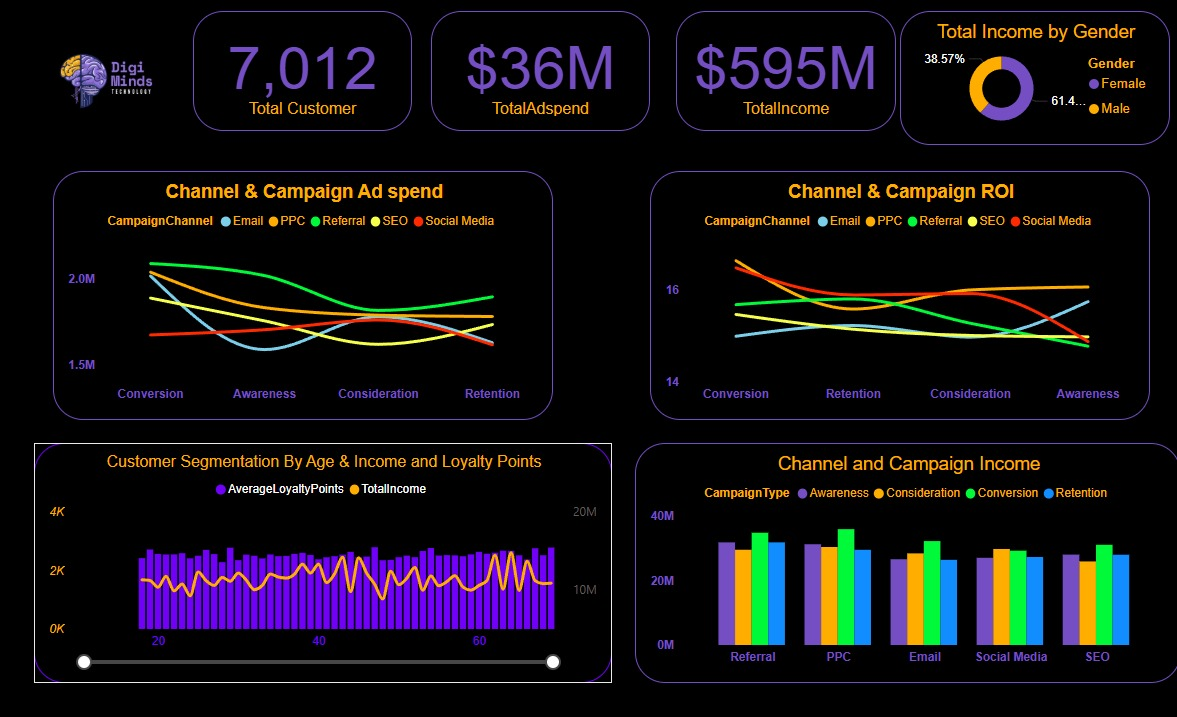

This screenshot's page, from the dashboard's own definition file:
{"tool":"powerbi","page":{"name":"Dashboard 1","canvas":[1280,720],"ordinal":0},"visuals":[{"type":"card","fields":{"Values":["digital_marketing_campaign_dataset.Total Customer"]},"box":[198,11,219,120],"z":0},{"type":"card","fields":{"Values":["digital_marketing_campaign_dataset.TotalAdspend"]},"box":[436.3,11,219,120],"z":1000},{"type":"card","fields":{"Values":["digital_marketing_campaign_dataset.TotalIncome"]},"box":[680.7,11,220,120],"z":2000},{"type":"donutChart","title":"Total Income by Gender","fields":{"Category":["digital_marketing_campaign_dataset.Gender"],"Y":["digital_marketing_campaign_dataset.TotalIncome"]},"box":[905,11,270,134],"z":3000},{"type":"lineClusteredColumnComboChart","title":"Channel and Campaign Income","fields":{"Category":["digital_marketing_campaign_dataset.CampaignChannel"],"Y":["digital_marketing_campaign_dataset.TotalIncome"],"Series":["digital_marketing_campaign_dataset.CampaignType"]},"box":[640,443,546,240],"z":4000},{"type":"lineChart","title":"Channel  & Campaign Ad spend","fields":{"Category":["digital_marketing_campaign_dataset.CampaignType"],"Y":["digital_marketing_campaign_dataset.TotalAdspend"],"Series":["digital_marketing_campaign_dataset.CampaignChannel"]},"box":[58,171,500,249],"z":5000},{"type":"image","box":[0,0,238.9,161.7],"z":7000},{"type":"lineClusteredColumnComboChart","title":"Customer Segmentation By Age & Income and Loyalty Points","fields":{"Category":["digital_marketing_campaign_dataset.Age"],"Y":["Measure Table.AverageLoyaltyPoints"],"Y2":["Measure Table.TotalIncome"]},"box":[39,443,578,240],"z":8000},{"type":"lineChart","title":"Channel  & Campaign ROI","fields":{"Category":["digital_marketing_campaign_dataset.CampaignType"],"Series":["digital_marketing_campaign_dataset.CampaignChannel"],"Y":["Measure Table.ROI (%)"]},"box":[655,171,500,249],"z":9000}]}

Visuals, with their boxes on the page's 1280x720 design canvas (x1, y1, x2, y2). These are canvas units, not pixel positions in the 1177x717 screenshot, which may show the page scaled, cropped or inside an application window:
card - digital_marketing_campaign_dataset.Total Customer: <box>198,11,417,131</box>
card - digital_marketing_campaign_dataset.TotalAdspend: <box>436,11,655,131</box>
card - digital_marketing_campaign_dataset.TotalIncome: <box>681,11,901,131</box>
"Total Income by Gender" donutChart: <box>905,11,1175,145</box>
"Channel and Campaign Income" lineClusteredColumnComboChart: <box>640,443,1186,683</box>
"Channel  & Campaign Ad spend" lineChart: <box>58,171,558,420</box>
image: <box>0,0,239,162</box>
"Customer Segmentation By Age & Income and Loyalty Points" lineClusteredColumnComboChart: <box>39,443,617,683</box>
"Channel  & Campaign ROI" lineChart: <box>655,171,1155,420</box>
